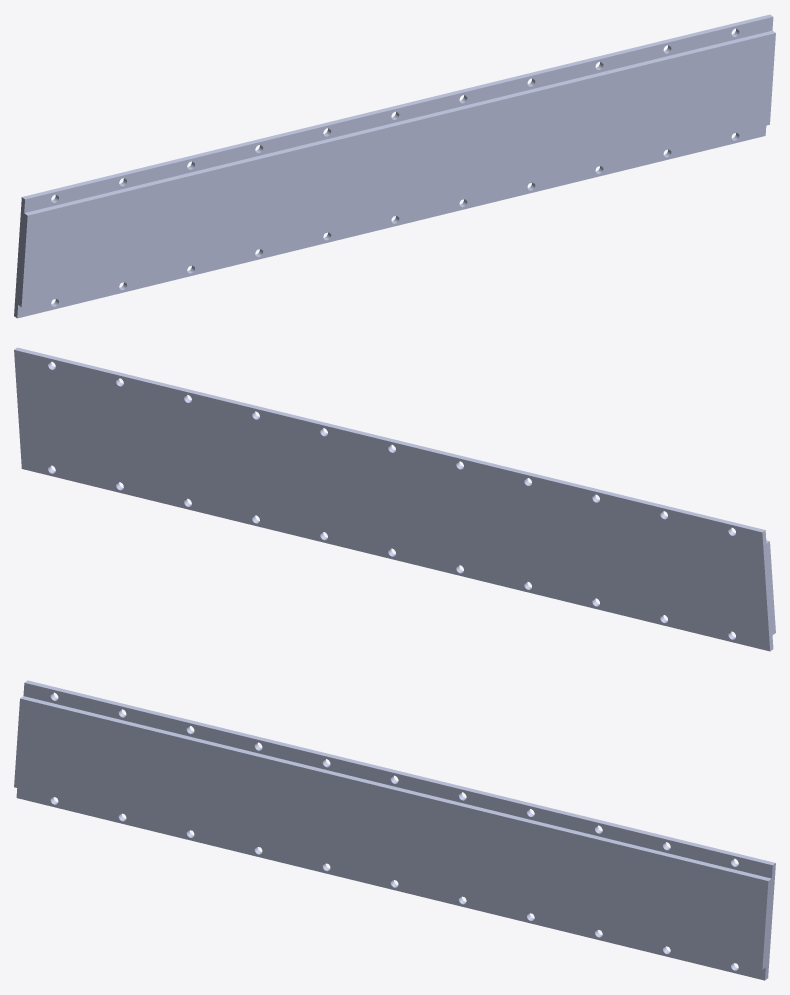
Rendered from MTB-stator.glb.
The picture shows the model from 3 angles, top to bottom: view 1: azimuth 30°, elevation 25°; view 2: azimuth 150°, elevation 25°; view 3: azimuth 330°, elevation 25°; orthographic projection.
Parts seen in each view (by area): view 1: MTB288_node, MTB144_node, MTB96_node; view 2: MTB288_node, MTB144_node, MTB96_node; view 3: MTB288_node, MTB144_node, MTB96_node.
Boxes of the visible parts, left/top/right/bottom form: MTB288_node: left=357, top=14, right=775, bottom=235; MTB144_node: left=153, top=114, right=367, bottom=285; MTB96_node: left=14, top=164, right=163, bottom=318; MTB288_node: left=14, top=347, right=429, bottom=568; MTB144_node: left=422, top=447, right=633, bottom=618; MTB96_node: left=626, top=497, right=775, bottom=651; MTB288_node: left=354, top=763, right=775, bottom=980; MTB144_node: left=150, top=713, right=367, bottom=880; MTB96_node: left=14, top=680, right=163, bottom=830.
Bounding box in the file's own units: 534 × 79 × 8.2.
